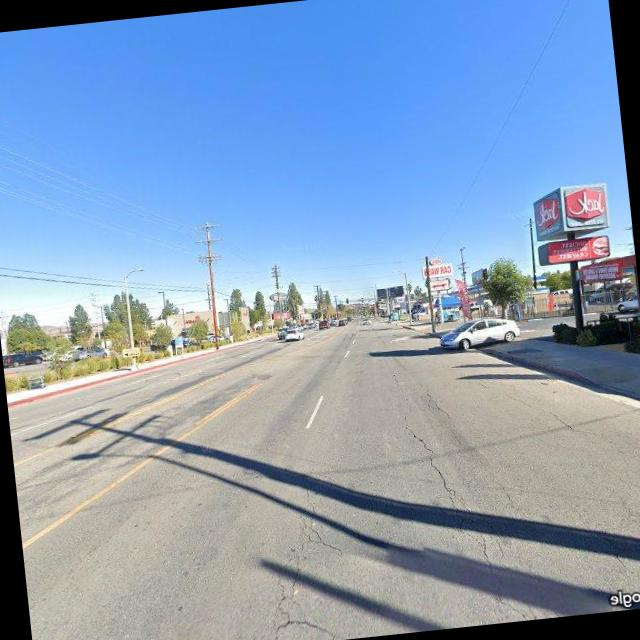crack: (397, 390, 532, 624), (237, 493, 361, 640), (503, 380, 588, 442), (618, 492, 640, 580), (421, 381, 456, 424)
